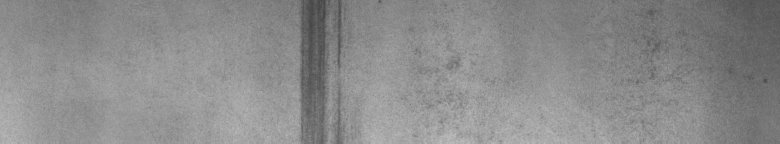ka: (292, 4, 346, 136)
